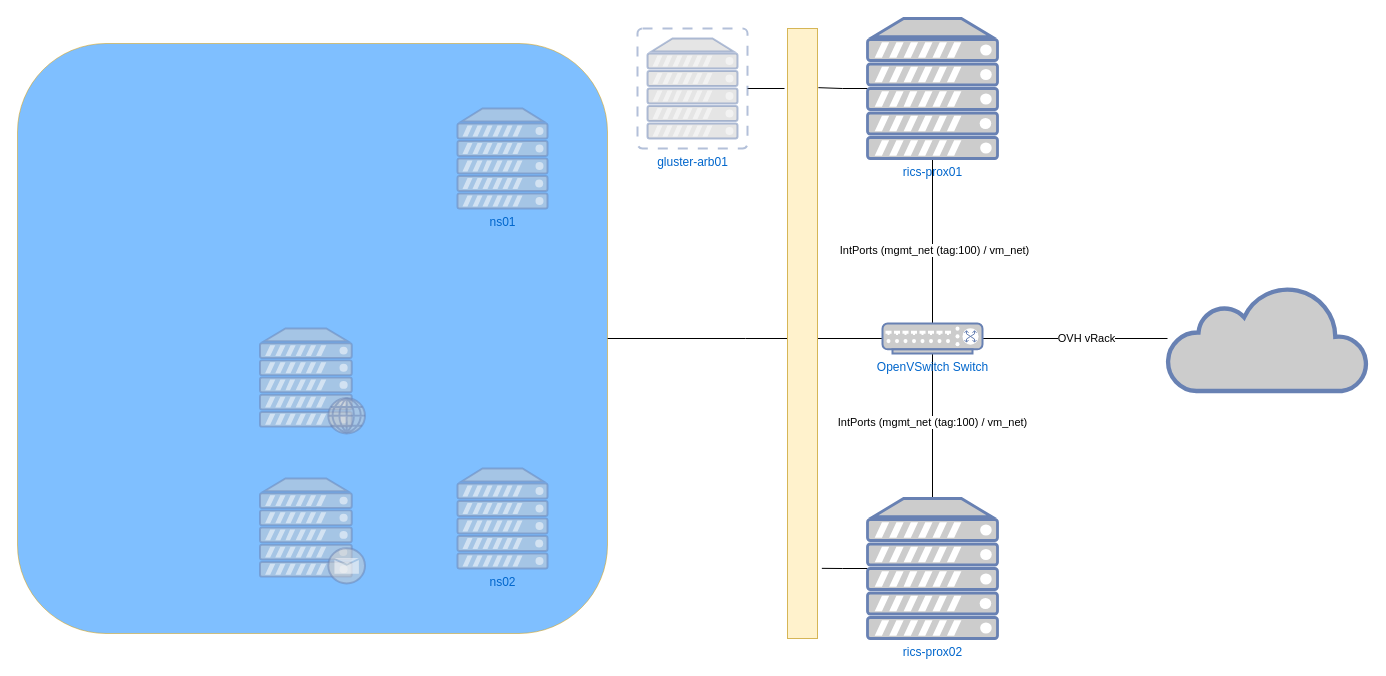
Image size: 1386x676. Some labels were removed from this diagram. Each missing label, with the centre of its shape:
gluster vnet (tag 101): point 802,333
mx01: point 312,530
web01 (blog): point 312,380
